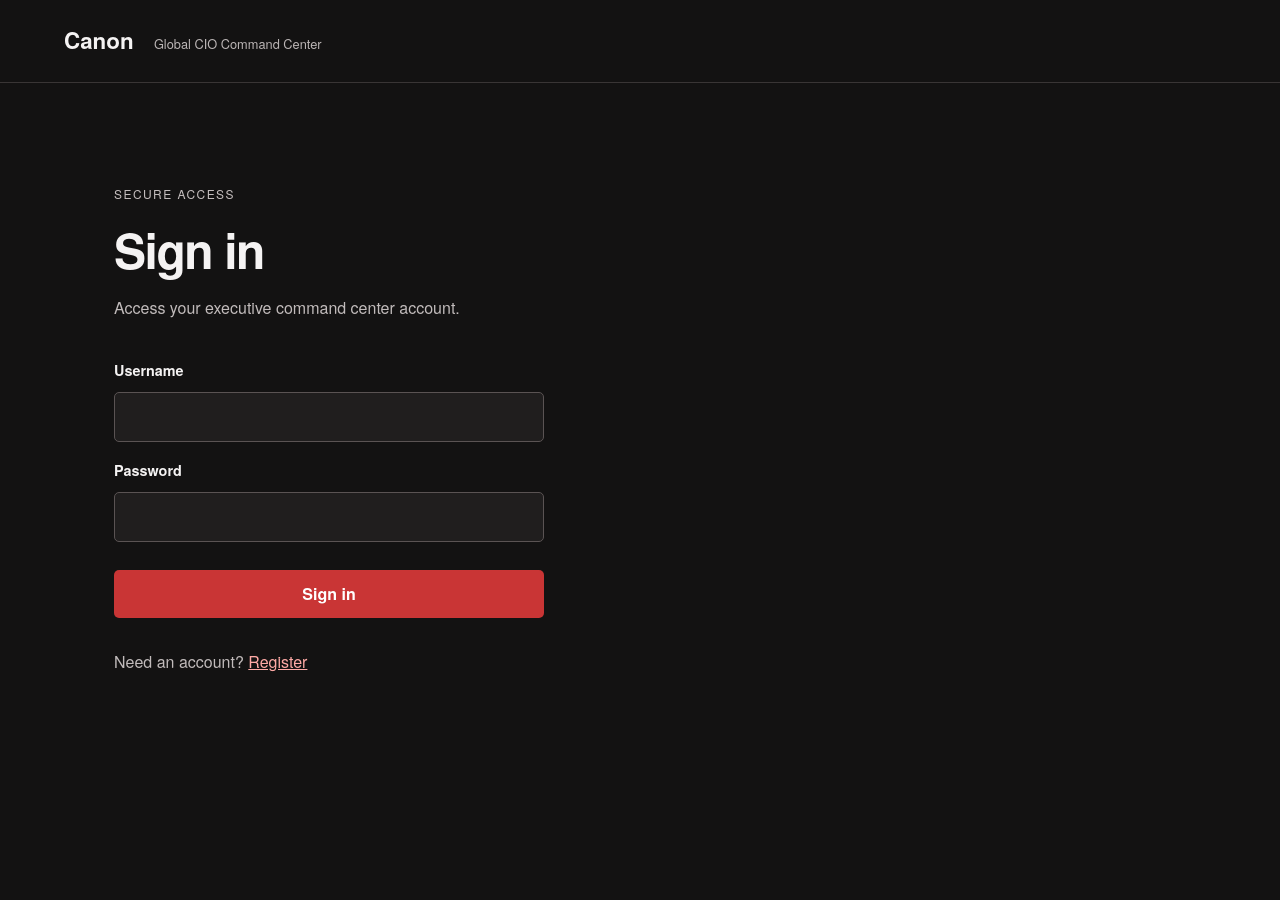
Test: identity screens › signs in, displays the profile and signs out
The image size is (1280, 900).
In the field labelled "Username": (329, 417) x1=114 y1=392 x2=544 y2=442, type "alice"
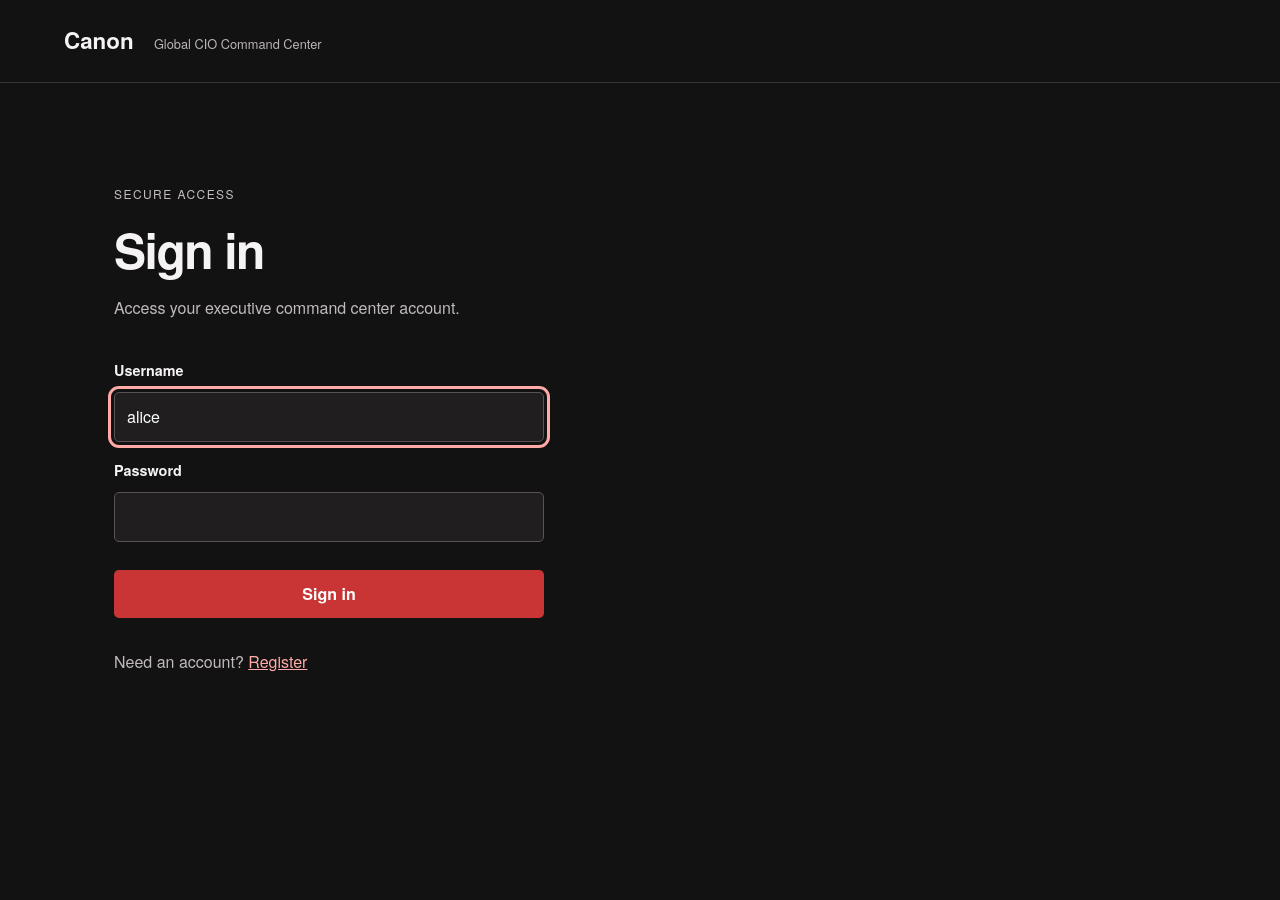
In the password field labelled "Password": (329, 517) x1=114 y1=492 x2=544 y2=542, type "password123"
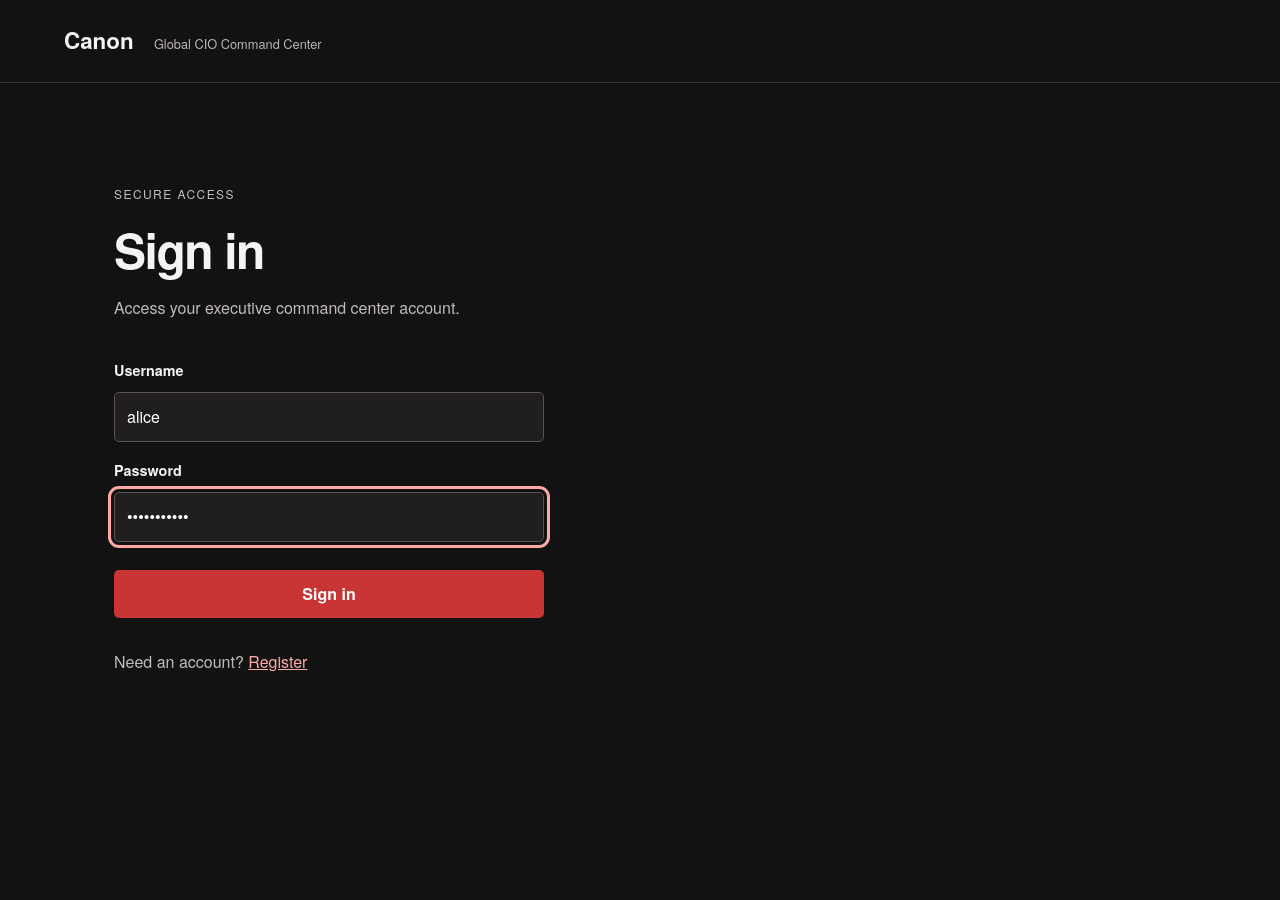
Click the button "Sign in": (329, 594) x1=114 y1=570 x2=544 y2=618
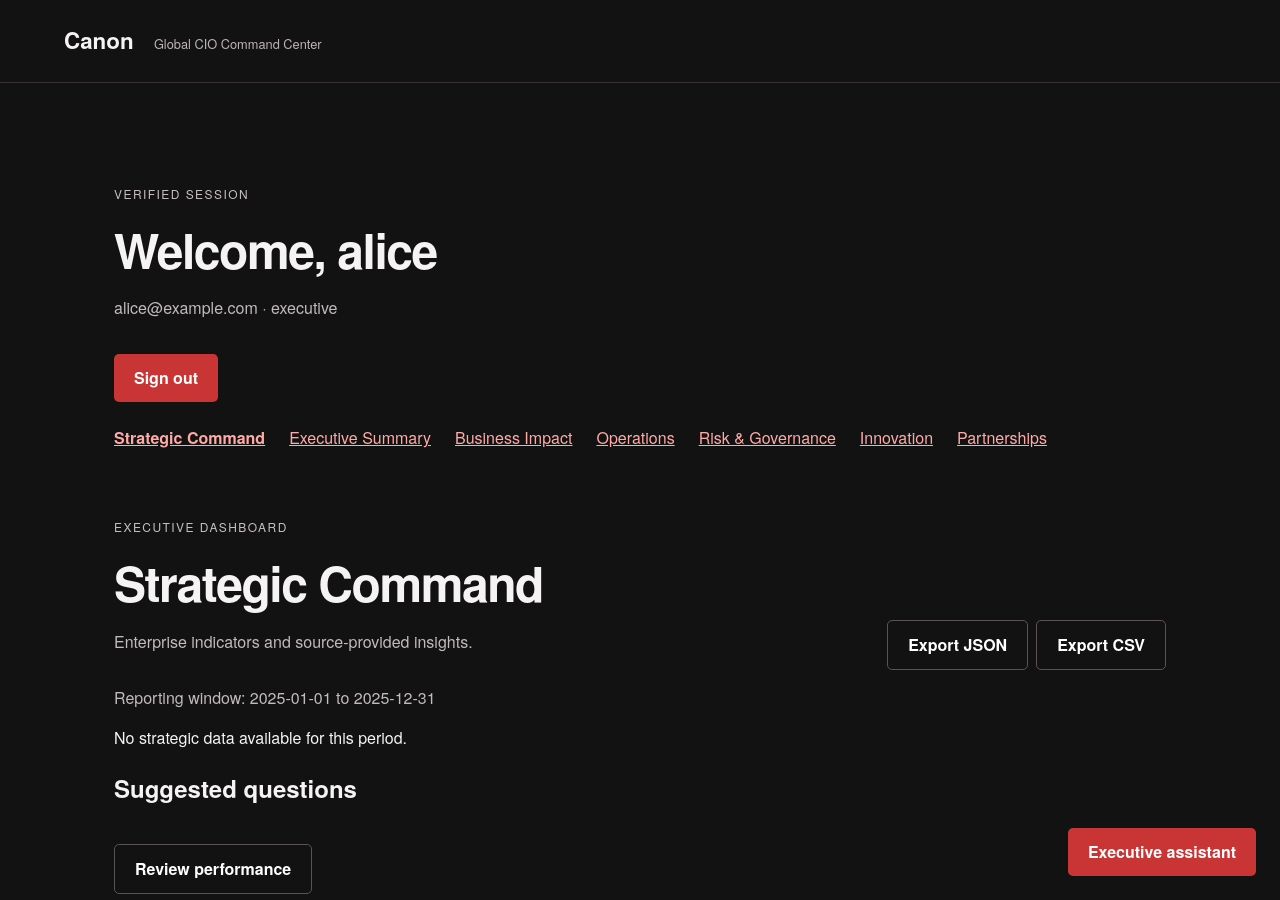
Result: the heading "Welcome, alice" is shown at x1=114 y1=215 x2=437 y2=284
Result: the text "No strategic data available for this period." is shown at x1=114 y1=726 x2=407 y2=749
Result: the button "Review performance" is shown at x1=114 y1=844 x2=312 y2=894
Click the button "Sign out": (166, 378) x1=114 y1=354 x2=218 y2=402
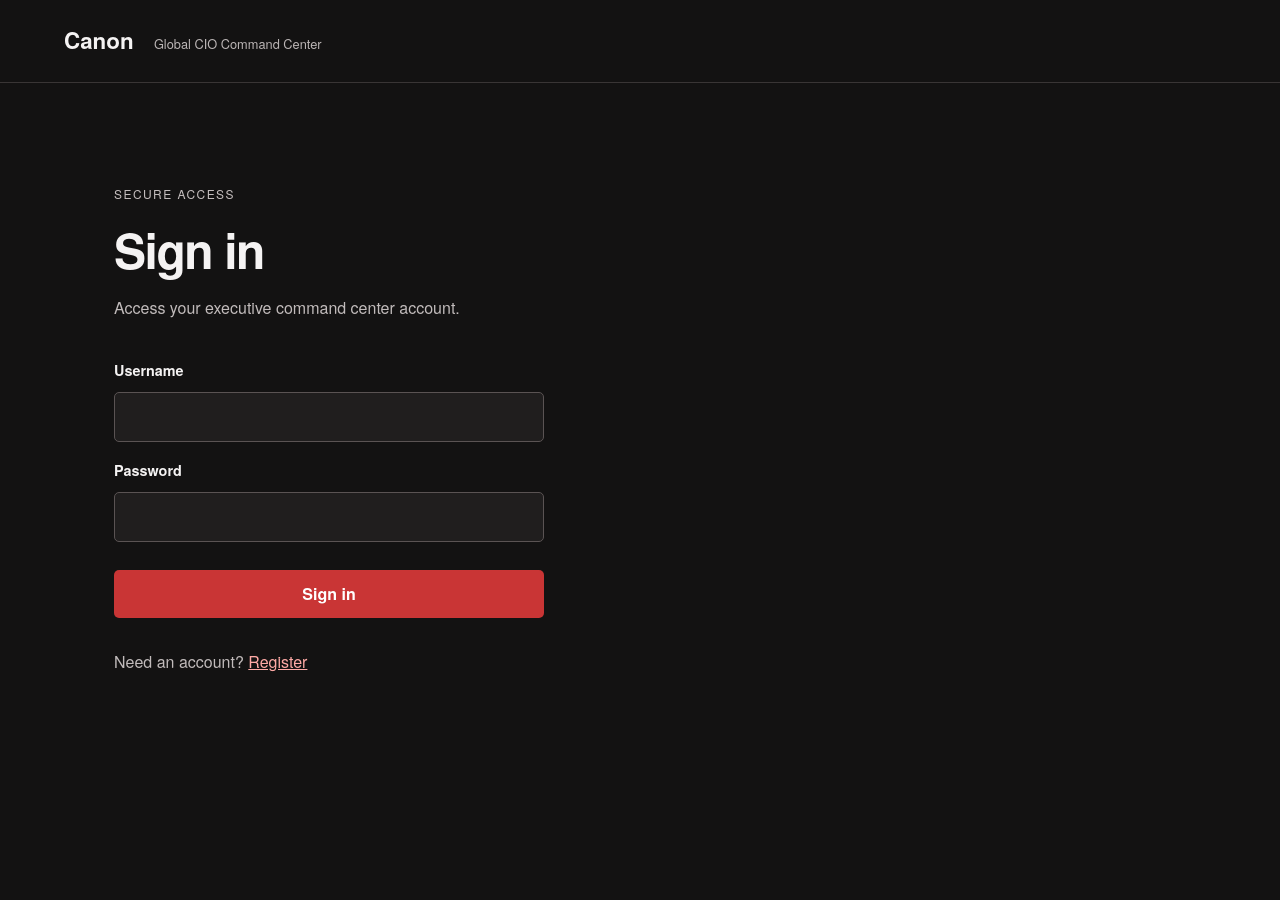
Result: the heading "Sign in" is shown at x1=114 y1=215 x2=264 y2=284
